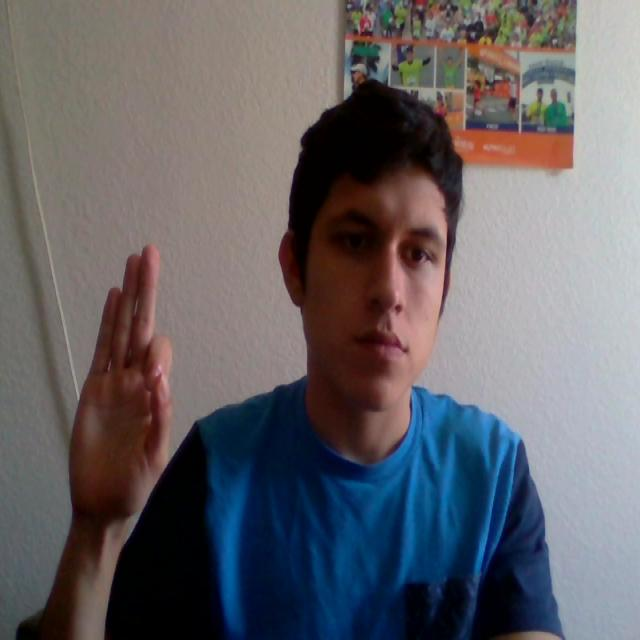F: (46, 236, 214, 555)
